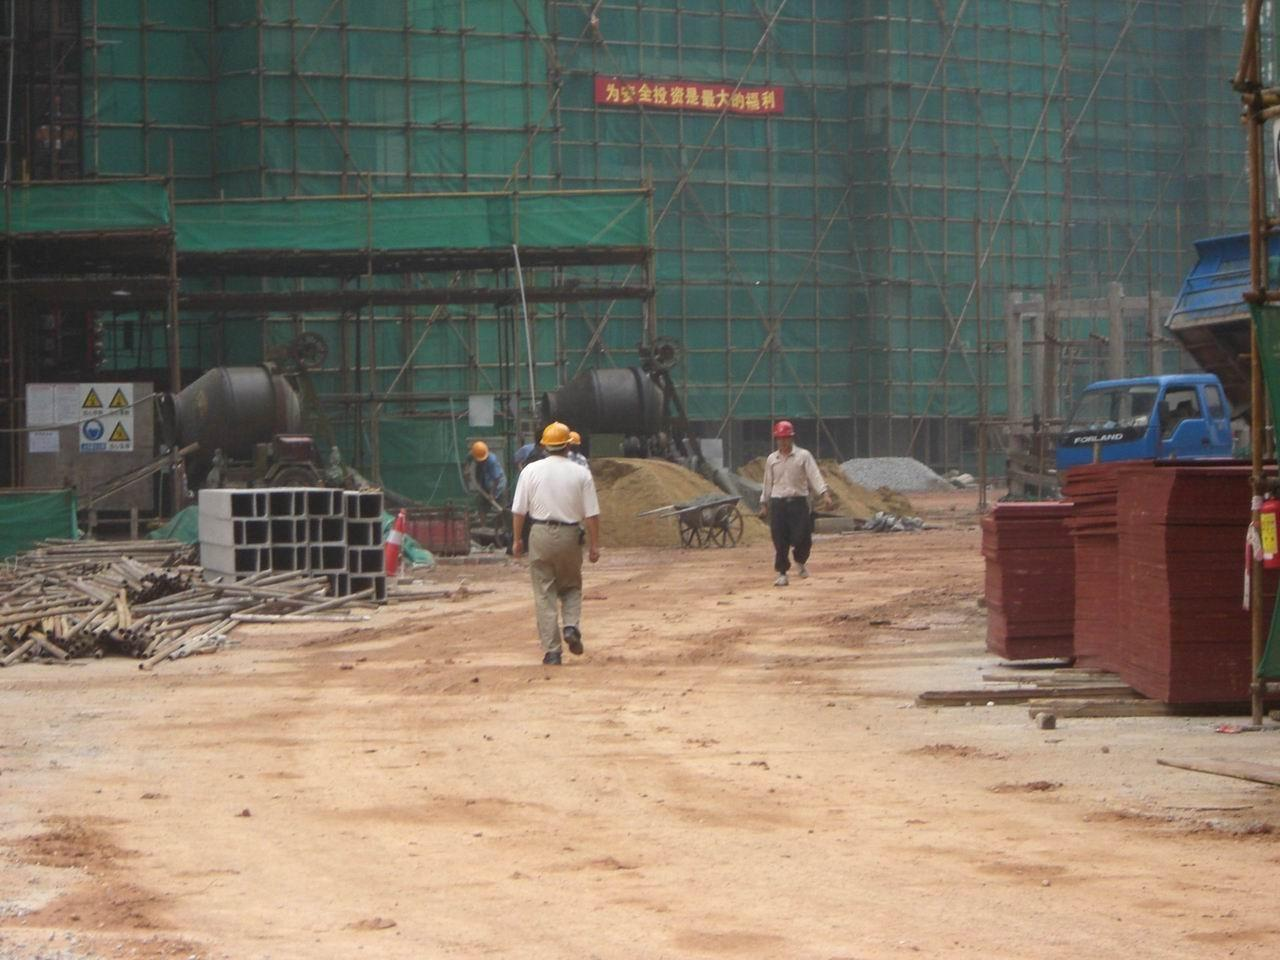helmet: (530, 418, 576, 451), (765, 419, 801, 444), (470, 438, 493, 463)
no-vest: (520, 460, 595, 537), (762, 450, 831, 501)
person: (504, 413, 607, 675), (756, 401, 839, 583), (466, 425, 511, 532)
